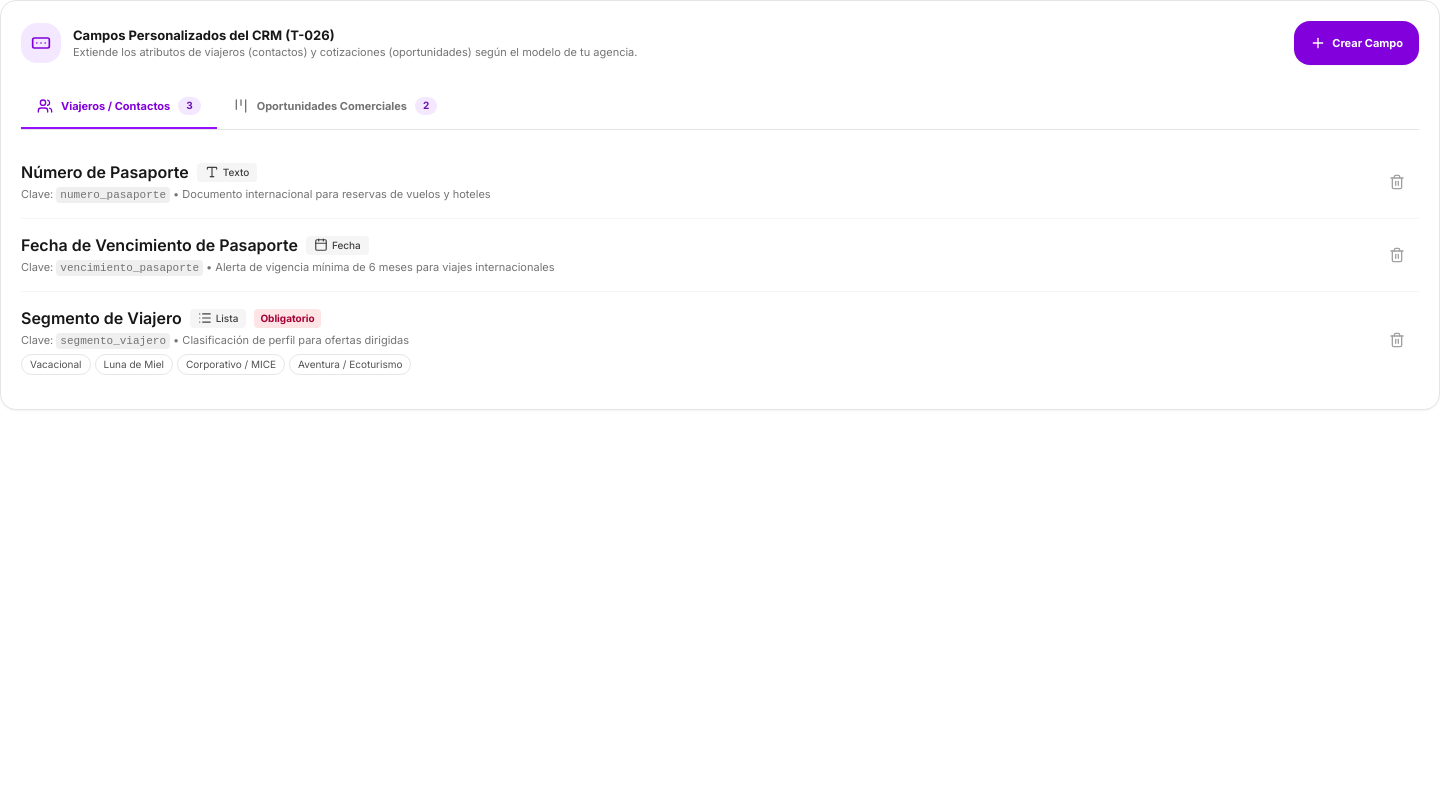
Test: BloqueCamposPersonalizados (T-026) › permite crear un nuevo campo de tipo lista con opciones
This screenshot has width=1440, height=810.
Click the button "Crear Campo". click: (1357, 43)
box: [1294,21,1419,65]
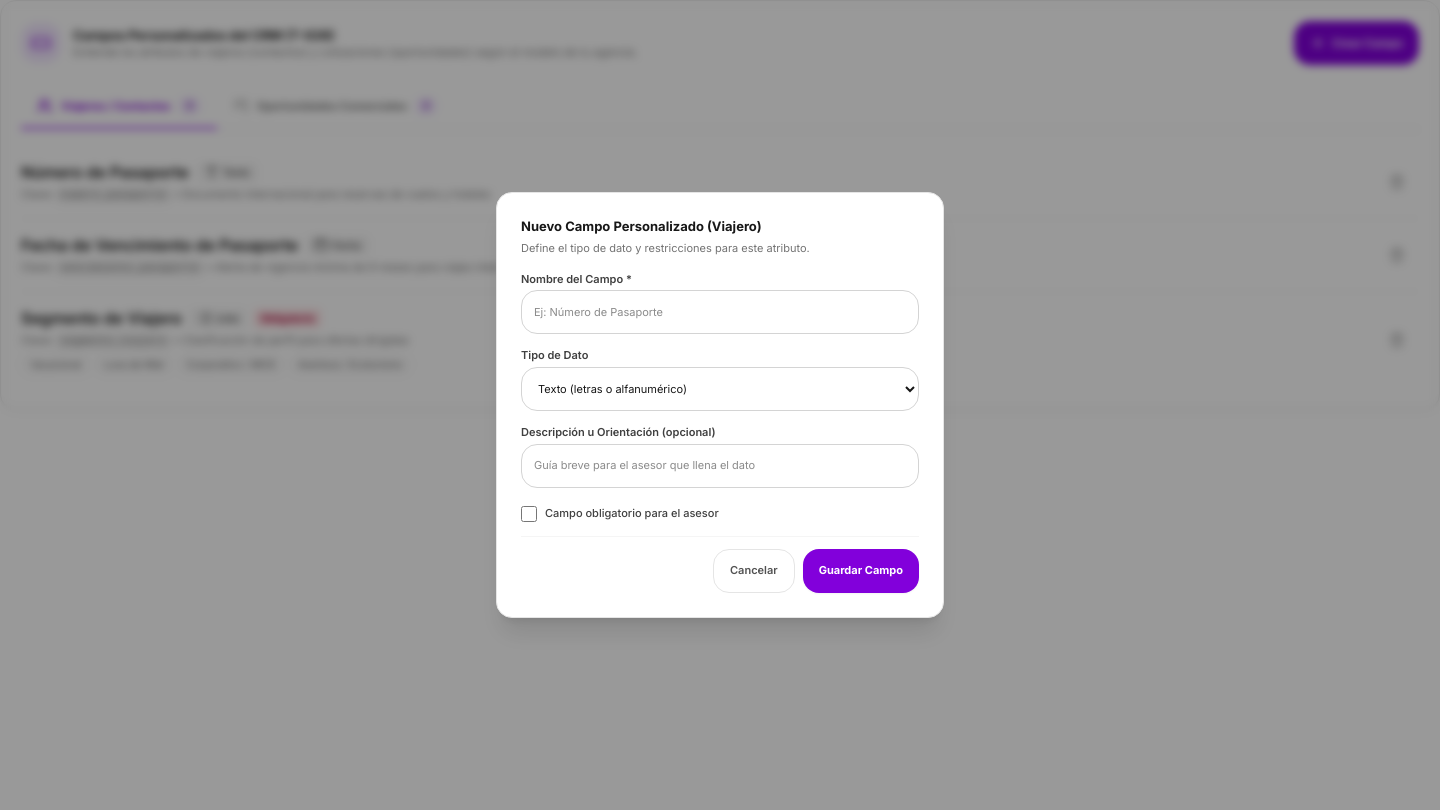
Type "Aerolínea Preferida" into the field with placeholder "Ej: Número de Pasaporte". click: (720, 312)
box: [521,290,919,334]
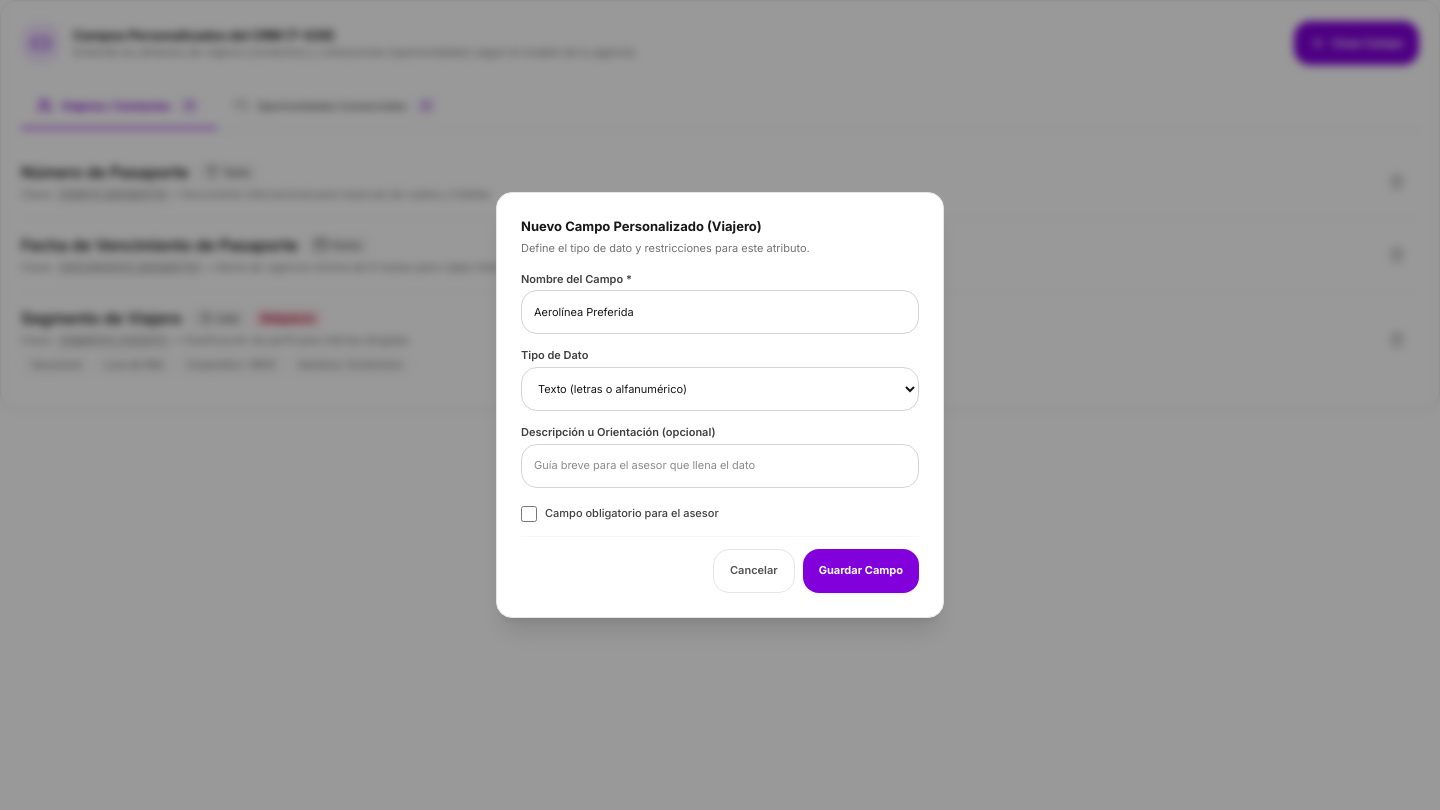
Select "Lista de Opciones predefinidas" in the dropdown. click: (720, 389)
box: [521,367,919,411]
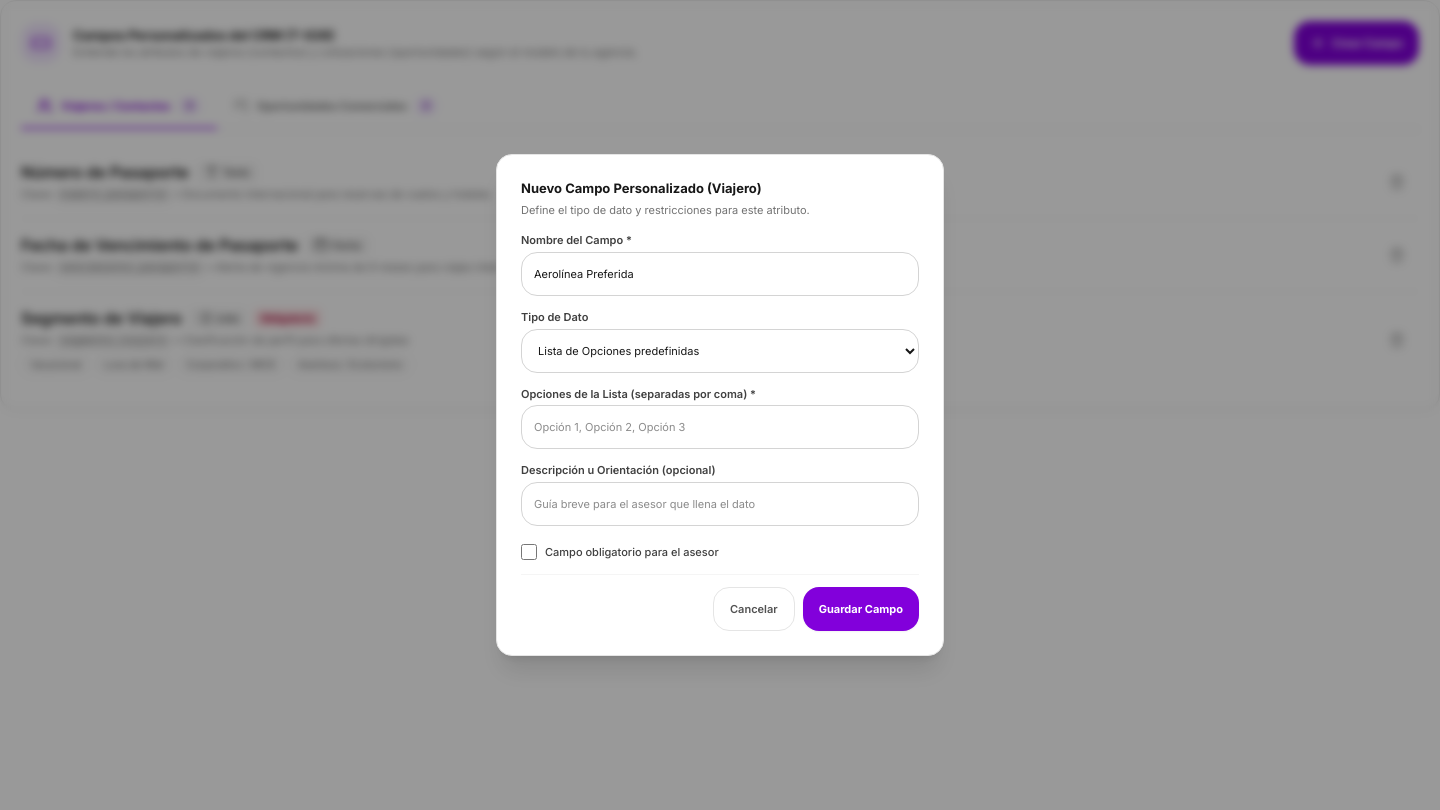
Type "Avianca, LATAM, Wingo" into the field with placeholder "Opción 1, Opción 2, Opción 3". click: (720, 427)
box: [521,405,919,449]
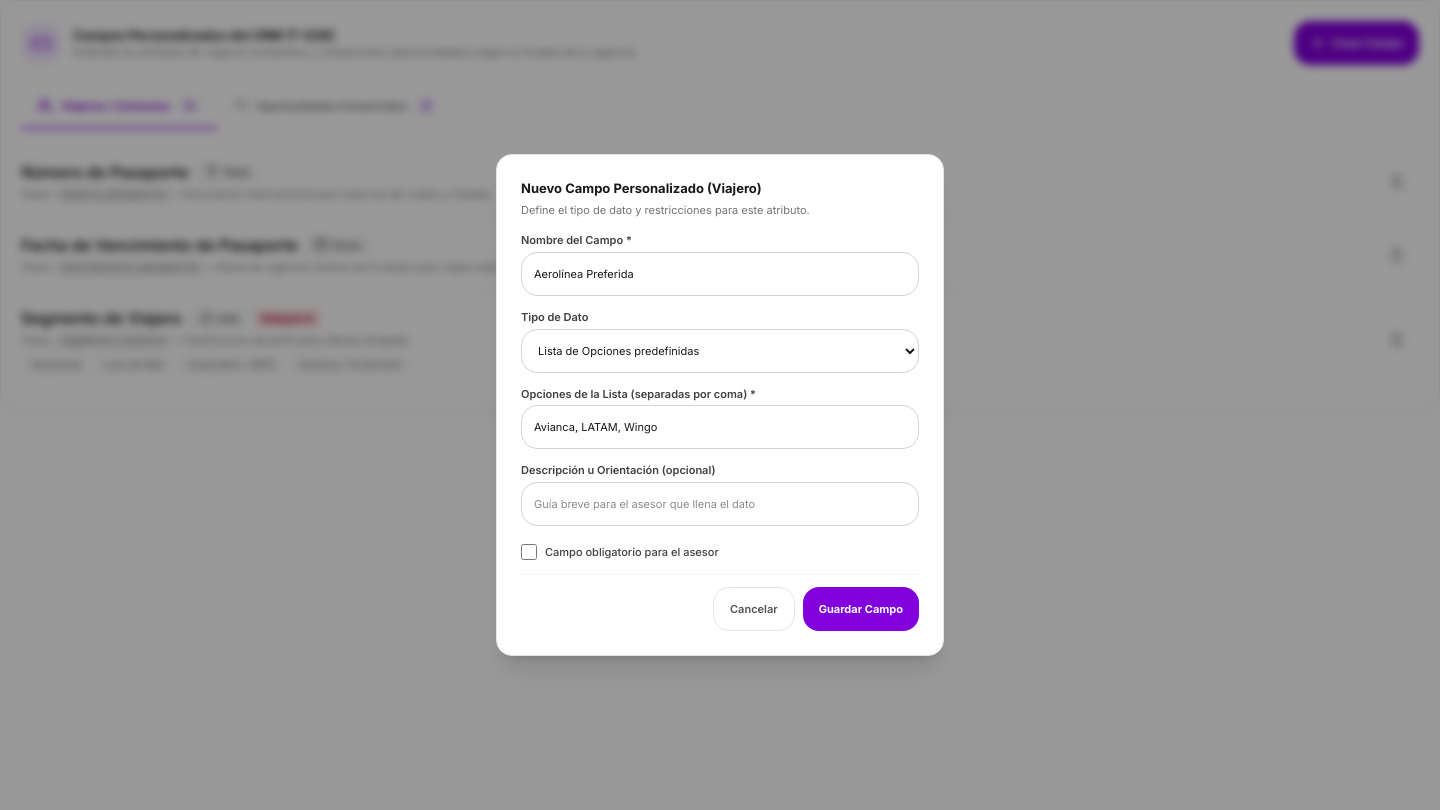
Click the button "Guardar Campo". click: (861, 609)
box: [803,587,919,631]
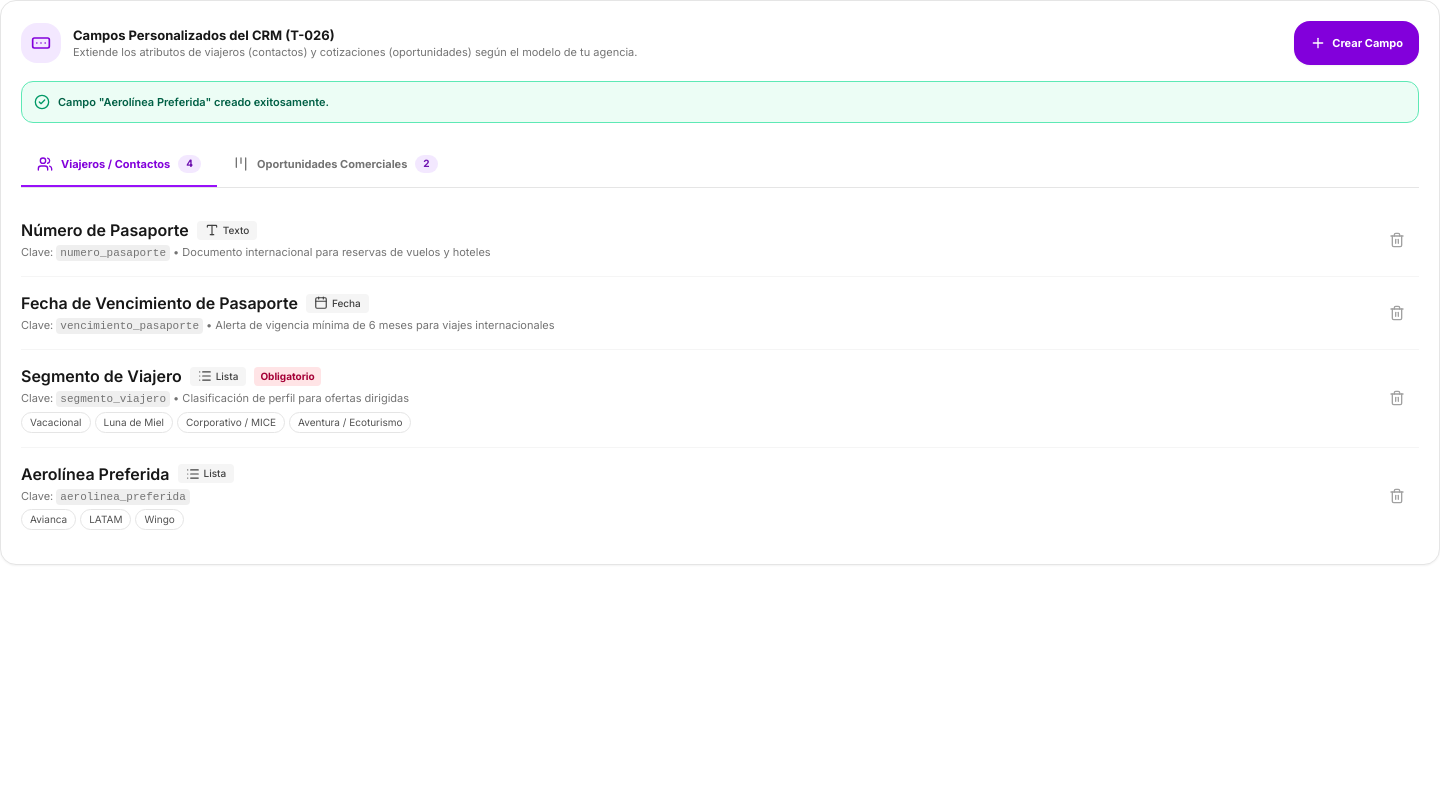
Check: the text "Campo \"Aerolínea Preferida\" creado exitosamente." is shown, box [58,95,329,109]
Check: the text "Avianca" is shown, box [21,509,76,530]
Check: the text "LATAM" is shown, box [80,509,132,530]
